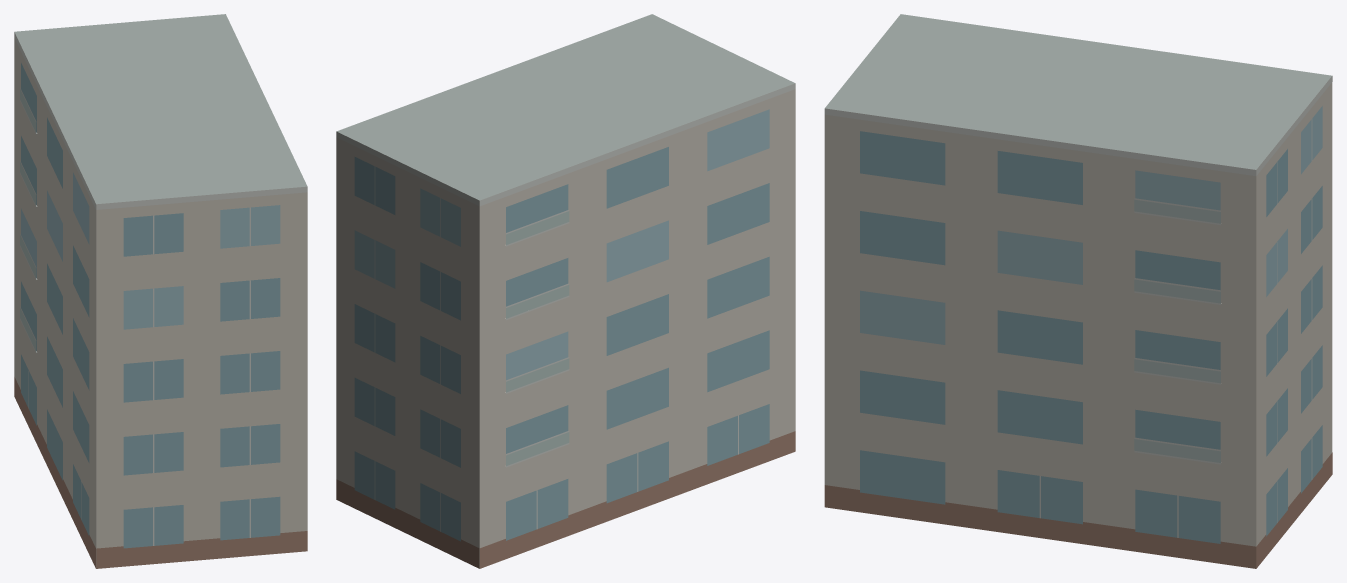
Rendered from survey-upis-32657844.glb.
The picture shows the model from 3 angles, left to right: view 1: azimuth 30°, elevation 25°; view 2: azimuth 150°, elevation 25°; view 3: azimuth 270°, elevation 25°; orthographic projection. The views are drawn at different scales.
Visible parts, largest first — view 1: survey-upis-32657844.tmp; view 2: survey-upis-32657844.tmp; view 3: survey-upis-32657844.tmp.
Part boxes in pixels (left/top/right/bottom): survey-upis-32657844.tmp: left=14, top=14, right=307, bottom=568; survey-upis-32657844.tmp: left=336, top=14, right=795, bottom=568; survey-upis-32657844.tmp: left=824, top=14, right=1332, bottom=568.
Bounding box in the file's own units: 13.01 × 15.5 × 17.89.
